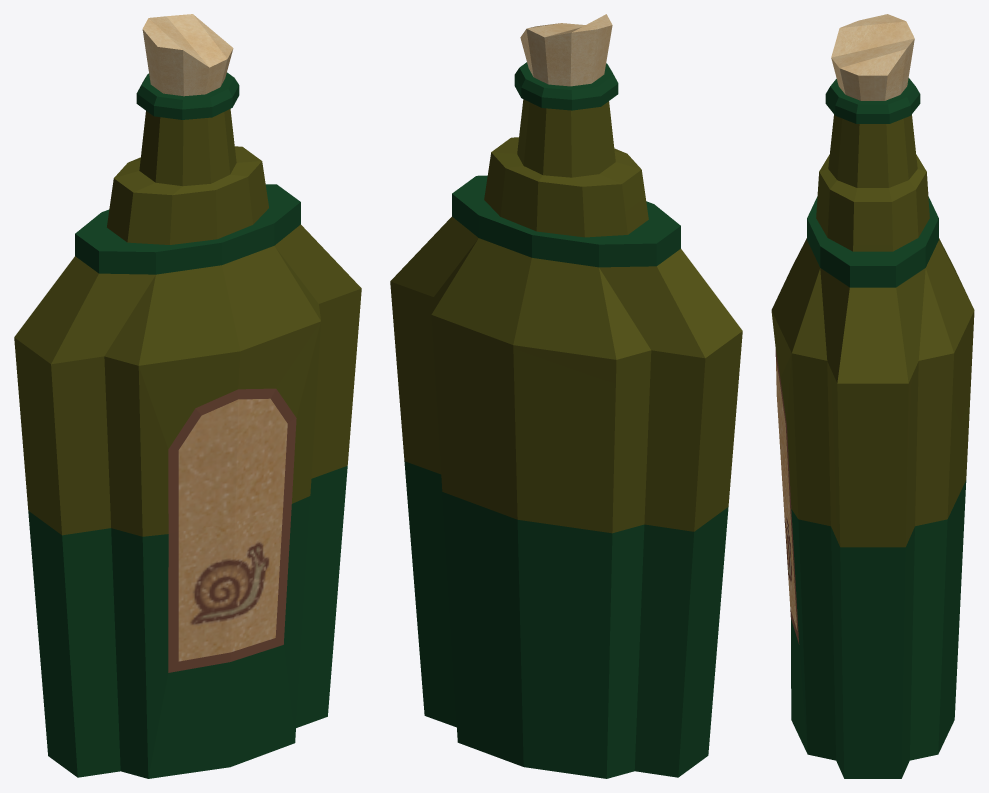
Rendered from Addiction potion.fbx.
The picture shows the model from 3 angles, left to right: view 1: azimuth 30°, elevation 25°; view 2: azimuth 150°, elevation 25°; view 3: azimuth 270°, elevation 25°; orthographic projection. The views are drawn at different scales.
Visible parts, largest first — view 1: Addiction potion; view 2: Addiction potion; view 3: Addiction potion.
Boxes of the visible parts, x1=… form: Addiction potion: x1=14, y1=14, x2=361, y2=778; Addiction potion: x1=390, y1=14, x2=742, y2=778; Addiction potion: x1=771, y1=14, x2=974, y2=778.
Size of the model in its own units: 164 by 360 by 96.17.
1 material, 1 textured.
